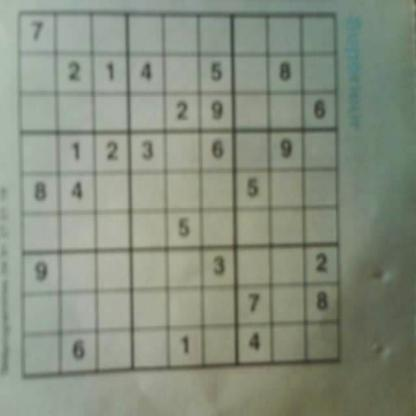sudoku: (15, 5, 344, 386)
